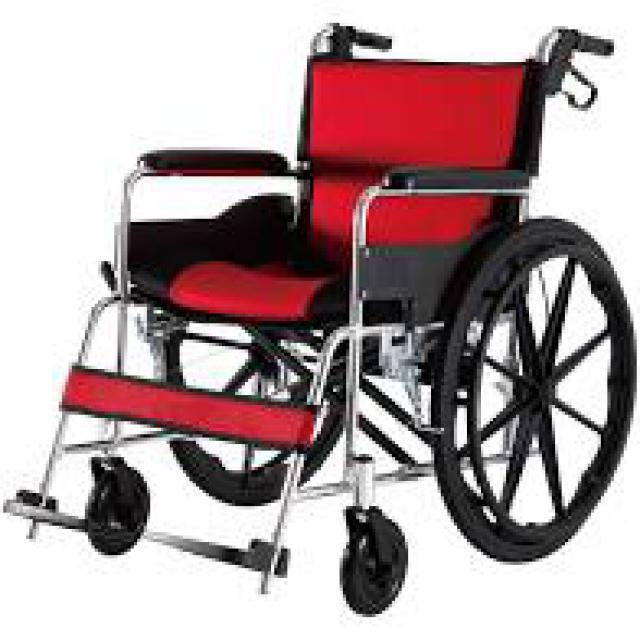wheelchair: (0, 13, 634, 634)
